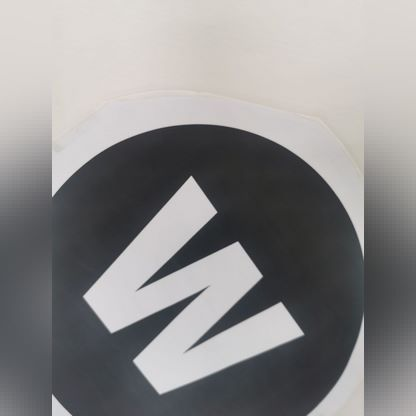W: (50, 146, 348, 404)
